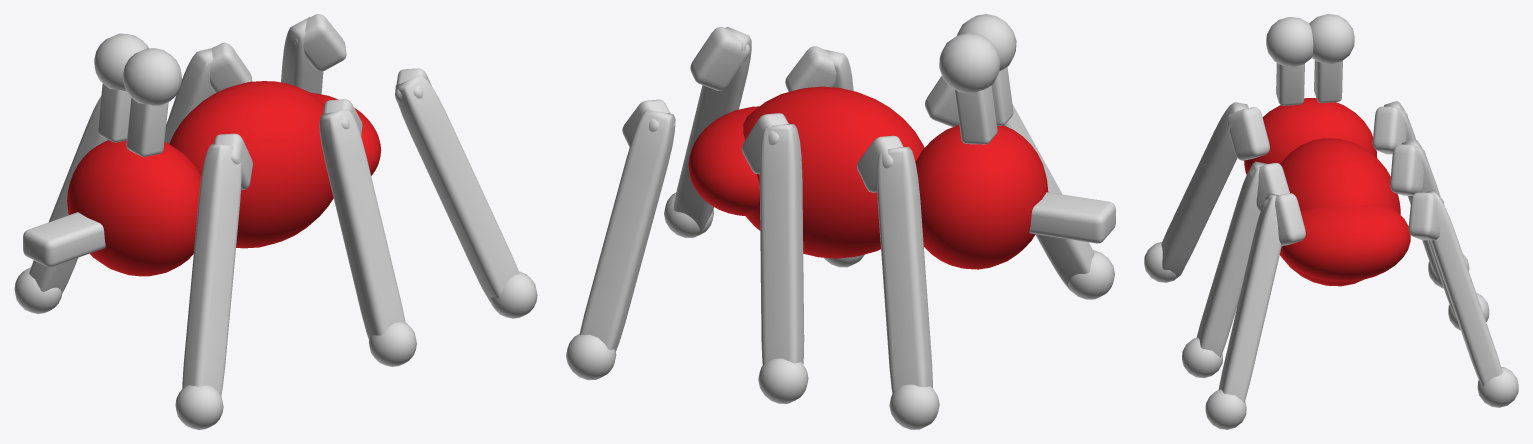
3 views of the same model, side by side, from view 1: azimuth 30°, elevation 25°; view 2: azimuth 150°, elevation 25°; view 3: azimuth 270°, elevation 25° (orthographic). The views are drawn at different scales.
Parts seen in each view (by area): view 1: thorax, head, leg_l1, leg_l3, leg_l2, jaw, knob, leg_r1, leg_r2, antenna, leg_r3, knob_b (+11 smaller); view 2: thorax, head, leg_r1, leg_r2, leg_r3, abdomen, leg_l3, jaw, knob_b, hip_l3, leg_l1, antenna_b (+13 smaller); view 3: abdomen, thorax, leg_l3, leg_l1, leg_l2, leg_r3, head, knob, knob_b, hip_l1, hip_r2, hip_r1 (+11 smaller).
Part boxes in pixels (left/top/right/bottom): thorax: left=169, top=81, right=333, bottom=248; head: left=67, top=140, right=201, bottom=276; leg_l1: left=182, top=144, right=241, bottom=394; leg_l3: left=395, top=74, right=519, bottom=302; leg_l2: left=319, top=108, right=405, bottom=340; jaw: left=23, top=212, right=105, bottom=267; knob: left=123, top=48, right=181, bottom=105; leg_r1: left=29, top=96, right=107, bottom=292; leg_r2: left=164, top=48, right=214, bottom=143; antenna: left=126, top=98, right=168, bottom=156; leg_r3: left=281, top=17, right=323, bottom=94; knob_b: left=94, top=33, right=148, bottom=91; thorax: left=743, top=86, right=924, bottom=258; head: left=915, top=125, right=1048, bottom=269; leg_r1: left=877, top=146, right=932, bottom=393; leg_r2: left=759, top=124, right=804, bottom=365; leg_r3: left=579, top=109, right=675, bottom=351; abdomen: left=688, top=106, right=759, bottom=216; leg_l3: left=673, top=27, right=751, bottom=232; jaw: left=1029, top=192, right=1115, bottom=243; knob_b: left=939, top=32, right=1000, bottom=93; hip_l3: left=690, top=27, right=749, bottom=90; leg_l1: left=1004, top=104, right=1094, bottom=291; antenna_b: left=954, top=85, right=997, bottom=144; abdomen: left=1280, top=204, right=1410, bottom=281; thorax: left=1280, top=138, right=1400, bottom=286; leg_l3: left=1218, top=193, right=1281, bottom=402; leg_l1: left=1161, top=102, right=1248, bottom=280; leg_l2: left=1196, top=161, right=1267, bottom=357; leg_r3: left=1426, top=190, right=1502, bottom=385; head: left=1244, top=98, right=1376, bottom=174; knob: left=1266, top=17, right=1313, bottom=67; knob_b: left=1309, top=14, right=1354, bottom=64; hip_l1: left=1227, top=107, right=1269, bottom=160; hip_r2: left=1390, top=144, right=1425, bottom=195; hip_r1: left=1372, top=106, right=1407, bottom=154.
Size of the model in its own units: 1.44 by 0.9547 by 1.17.
